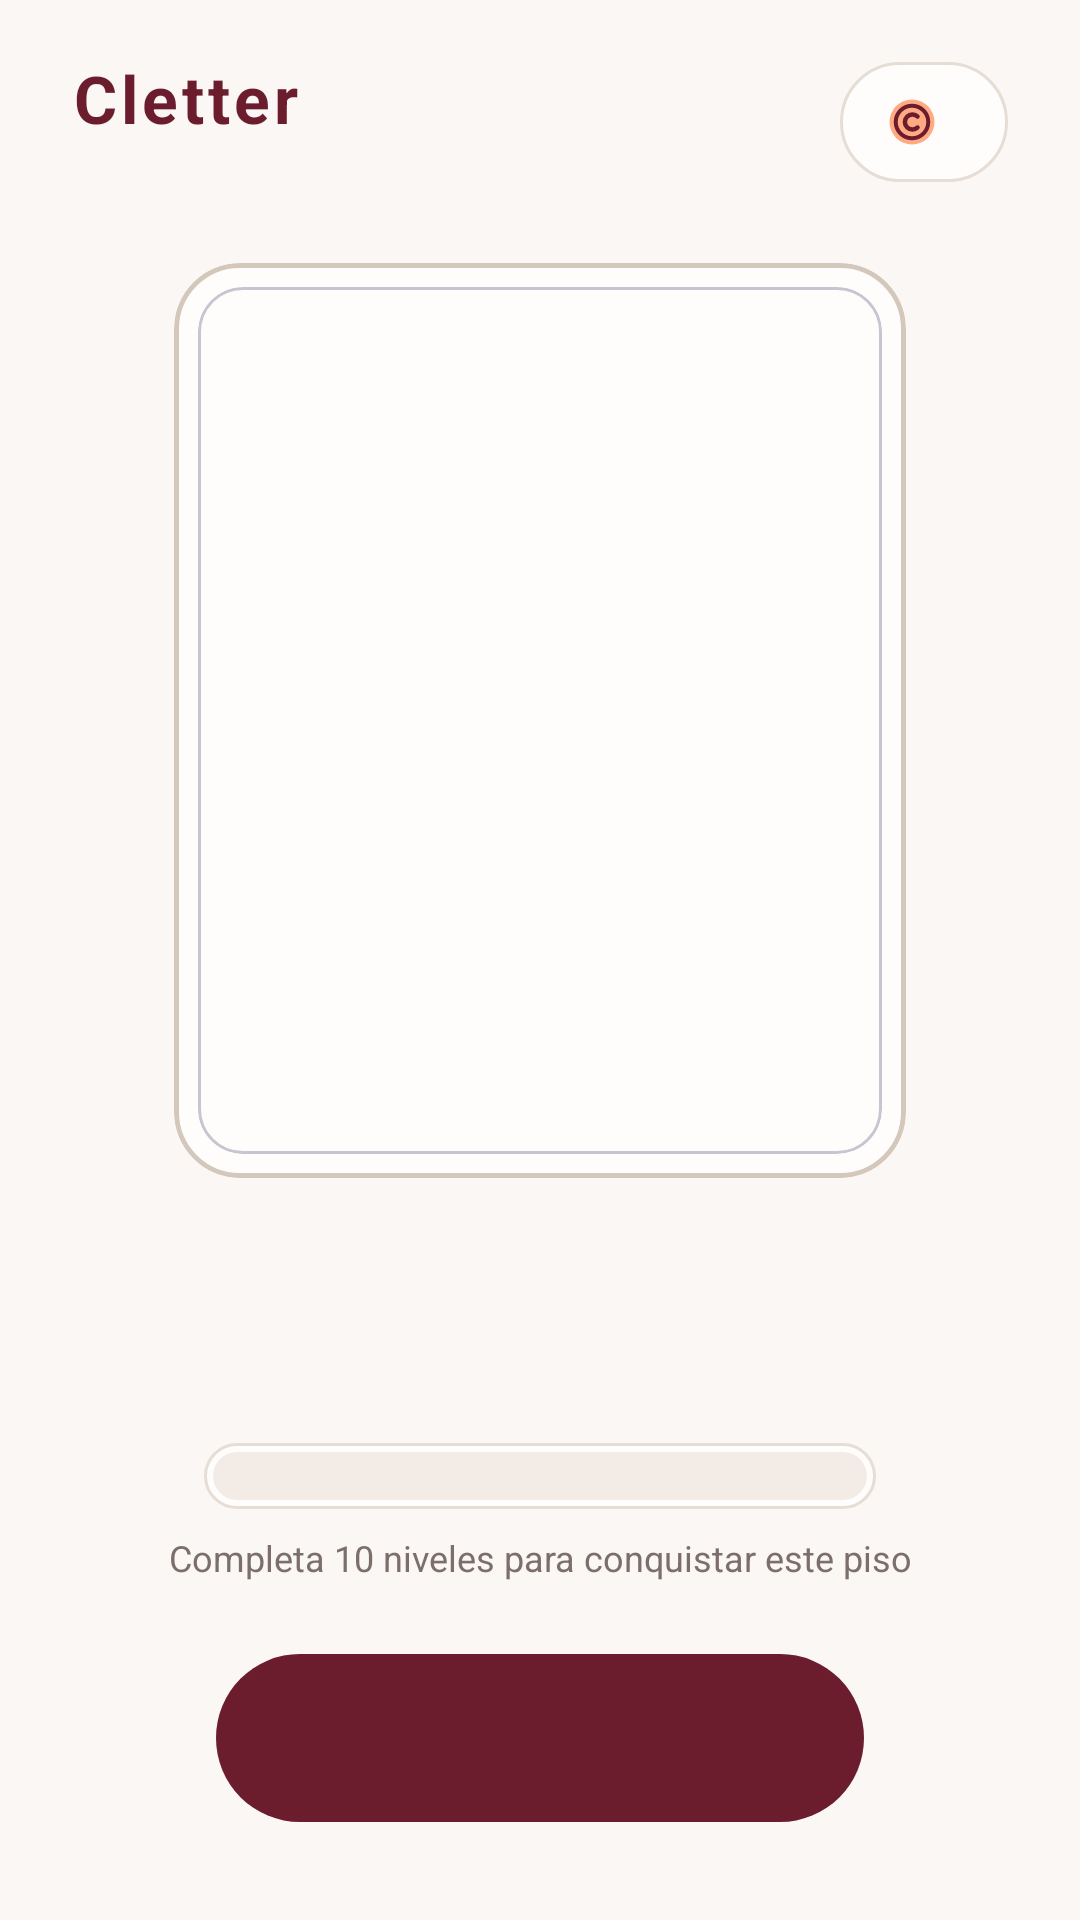

Point at icon controls on the screen. Image size 1080px x 1920px, points as point (x, y).
moneda: point (912, 122)
